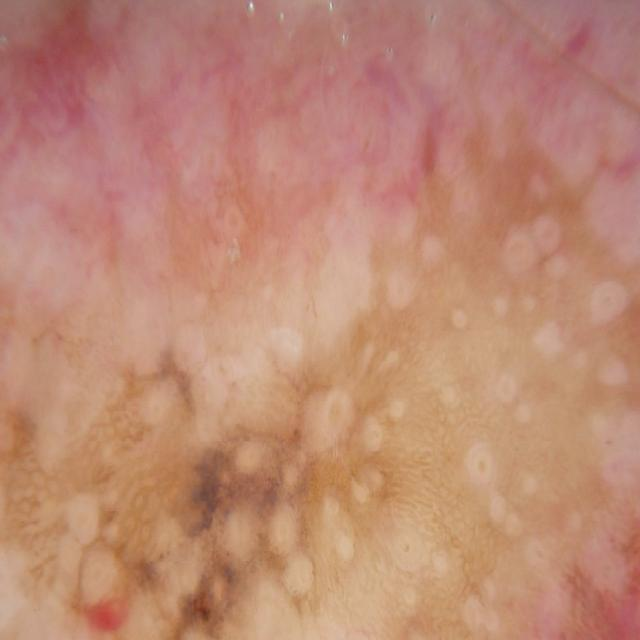Melanoma: (0, 112, 640, 640)
